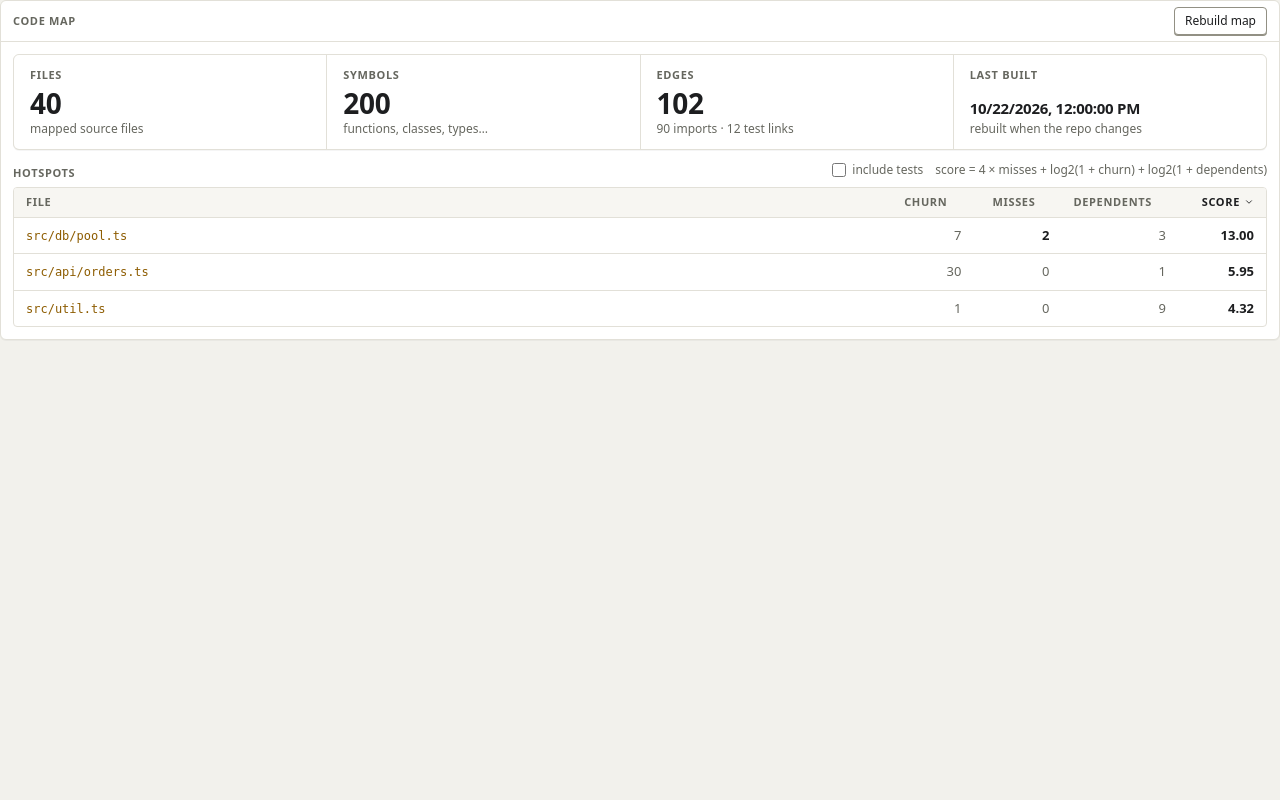
Test case: clicking a file opens its module panel with links to its lessons and Inbox items
The width and height of the screenshot is (1280, 800).
Click the button "src/db/pool.ts". click: (77,236)
box: [26,226,127,244]
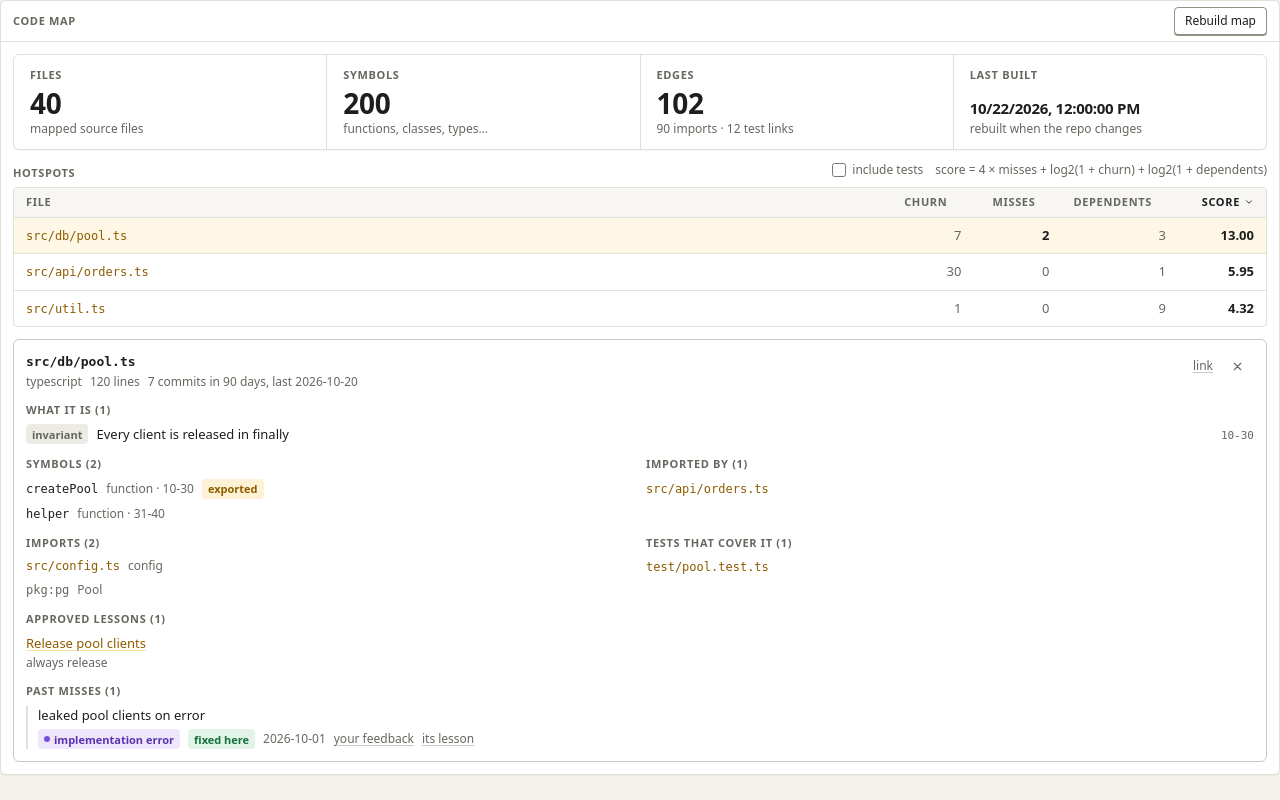
Check: the text "createPool" is shown, box [26,480,98,498]
Check: the text "helper" is shown, box [26,504,69,522]
Check: the text "Every client is released in finally" is shown, box [96,424,289,442]
